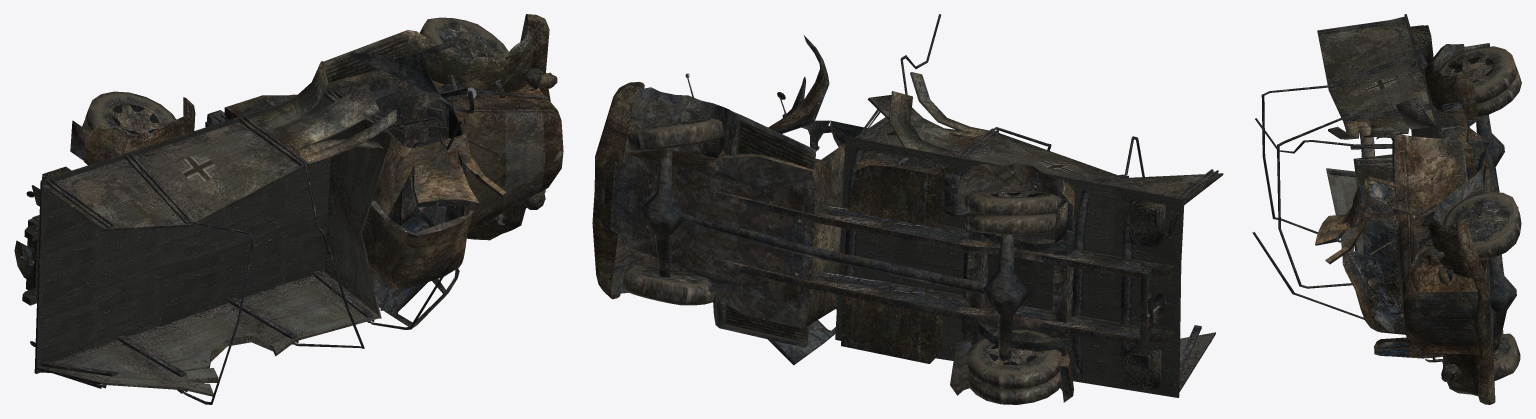
File: vehicle_opel_blitz_desert_d.glb
The picture shows the model from 3 angles, left to right: view 1: azimuth 30°, elevation 25°; view 2: azimuth 150°, elevation 25°; view 3: azimuth 270°, elevation 25°; orthographic projection. The views are drawn at different scales.
Size of the model in its own units: 255 by 124 by 125.
Materials: 2 (2 with a texture image).
